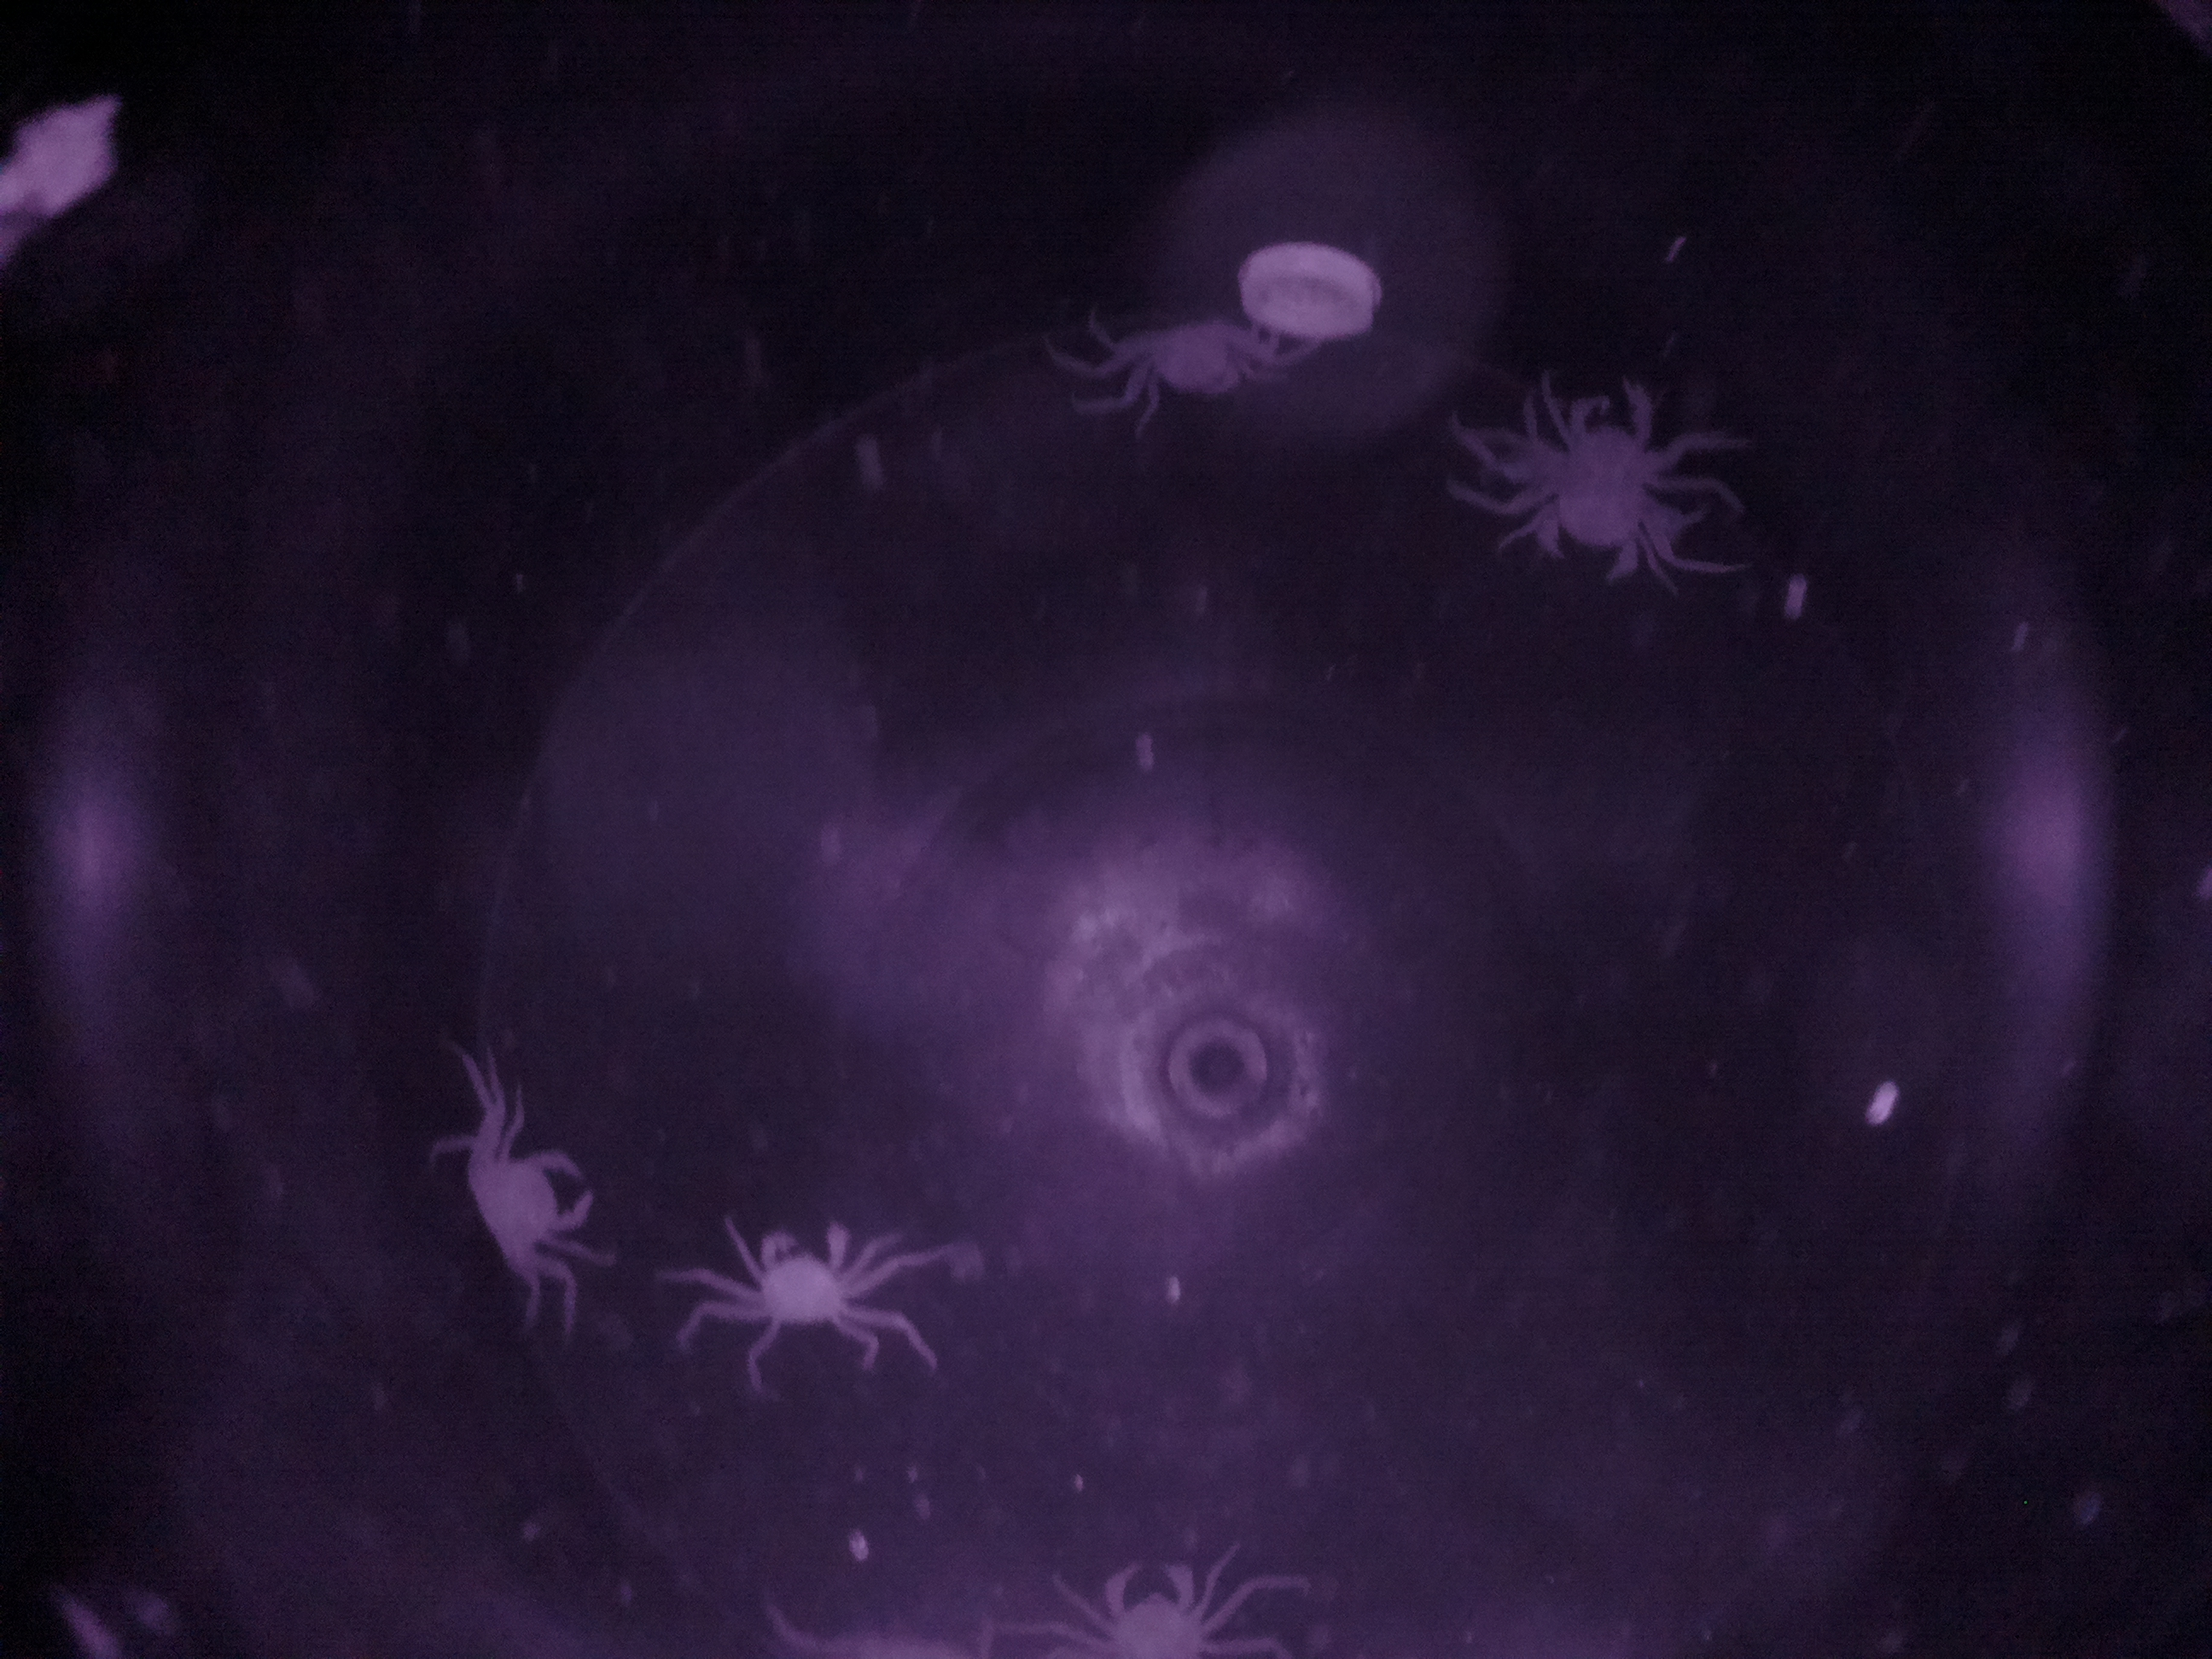Crab: (444, 1122, 622, 1291), (712, 1202, 894, 1363), (1096, 291, 1285, 410)
